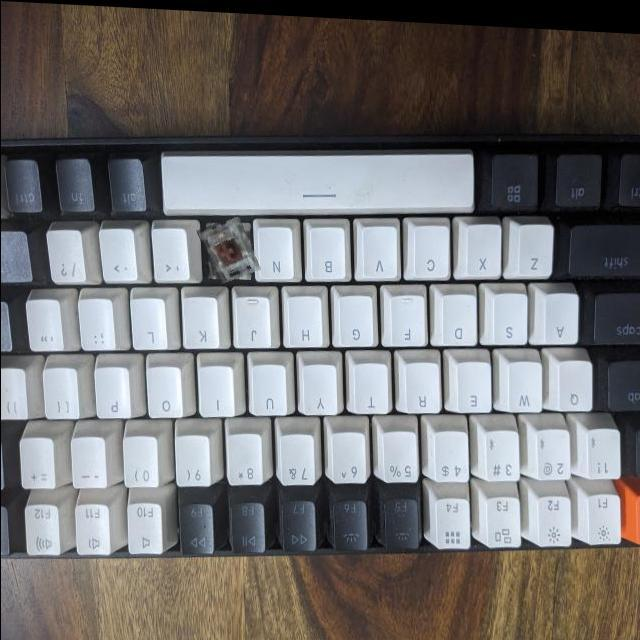key-switch: (199, 213, 255, 280)
